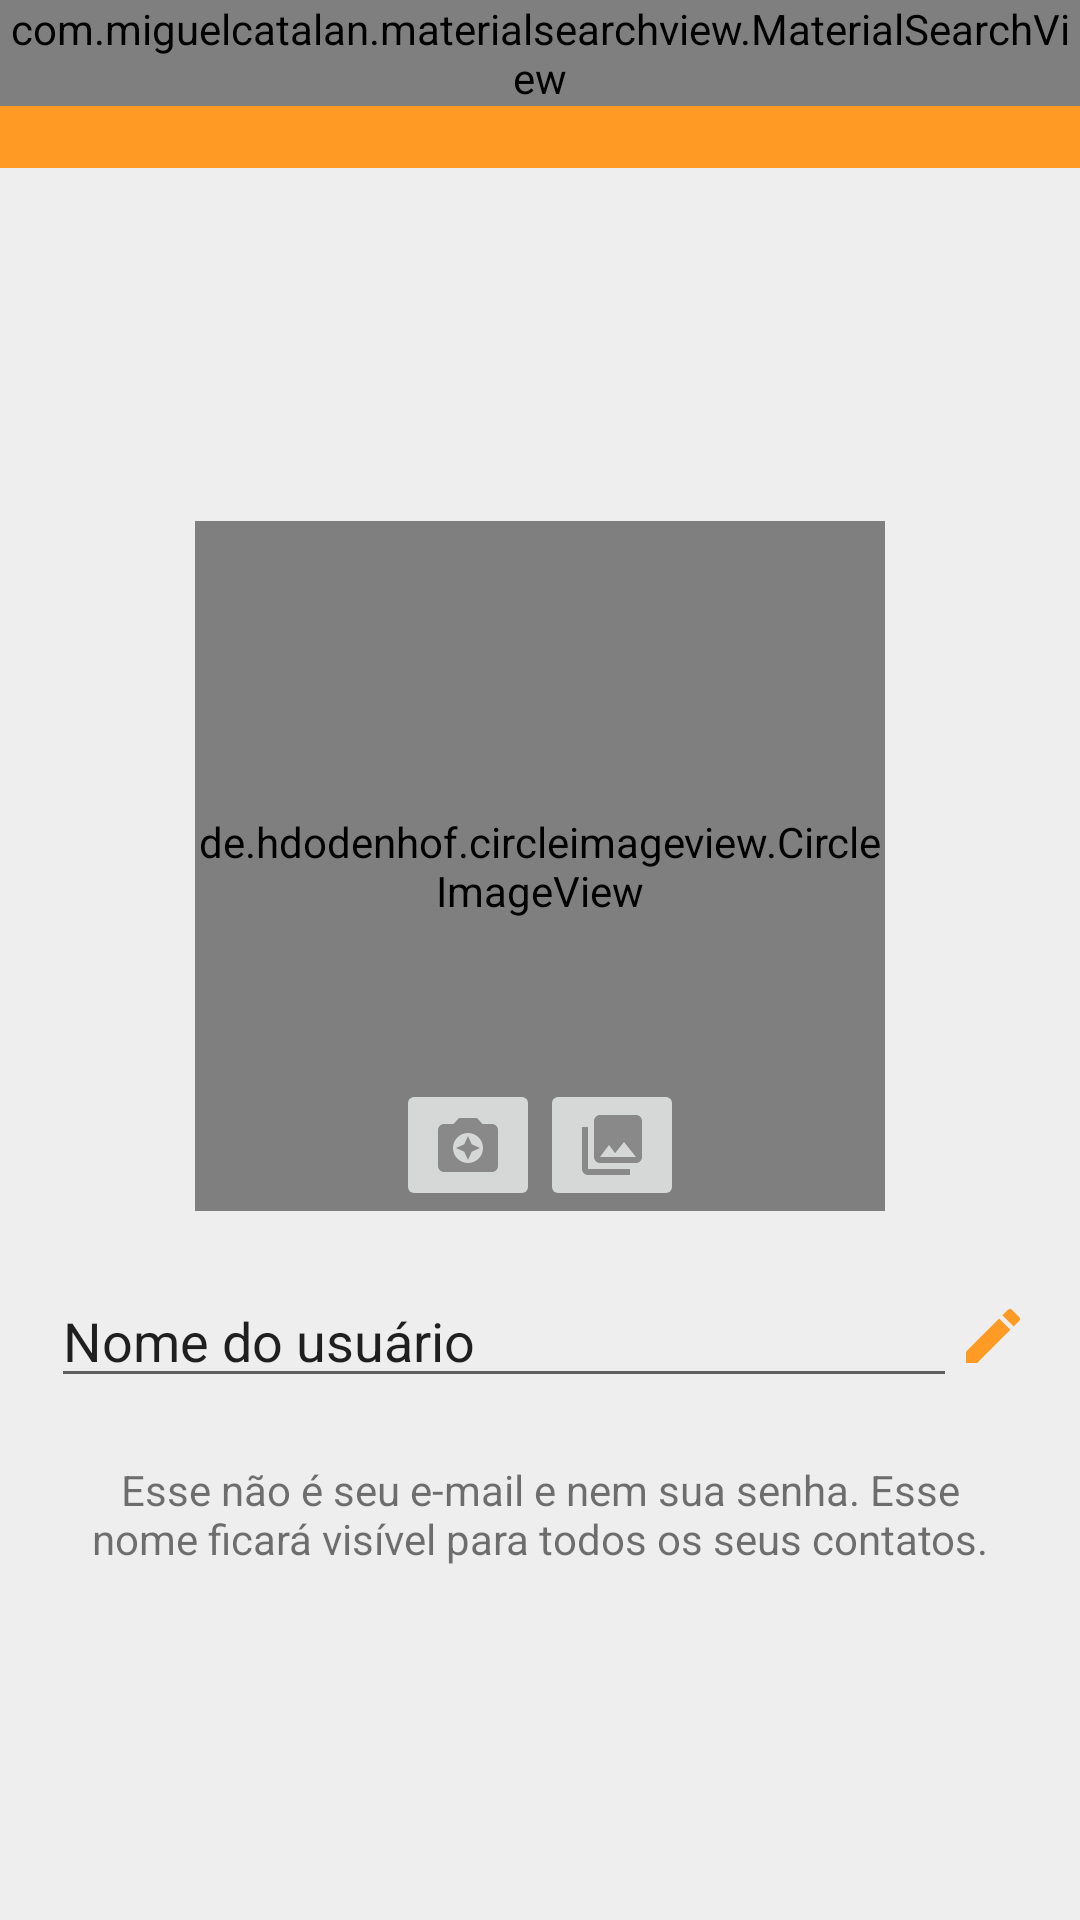

Locate icon controls on the screen. Image size 1080px×1920px, boxes as box=[x1, y1, x2, y2].
camera: box=[408, 1097, 528, 1193]
edit laranja: box=[966, 1309, 1020, 1363]
photo library: box=[552, 1097, 672, 1193]
